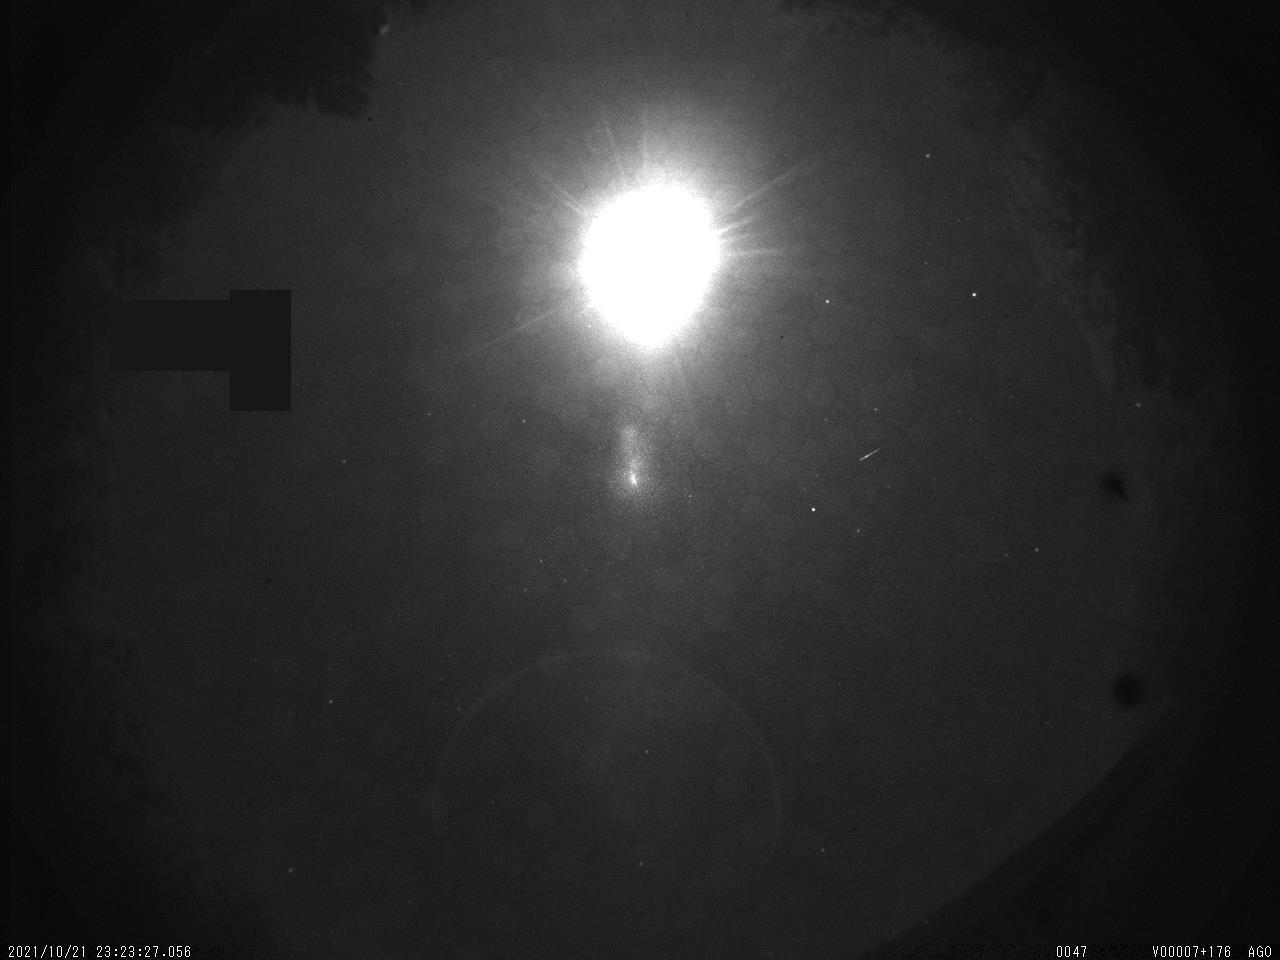meteor: (852, 441, 886, 468)
